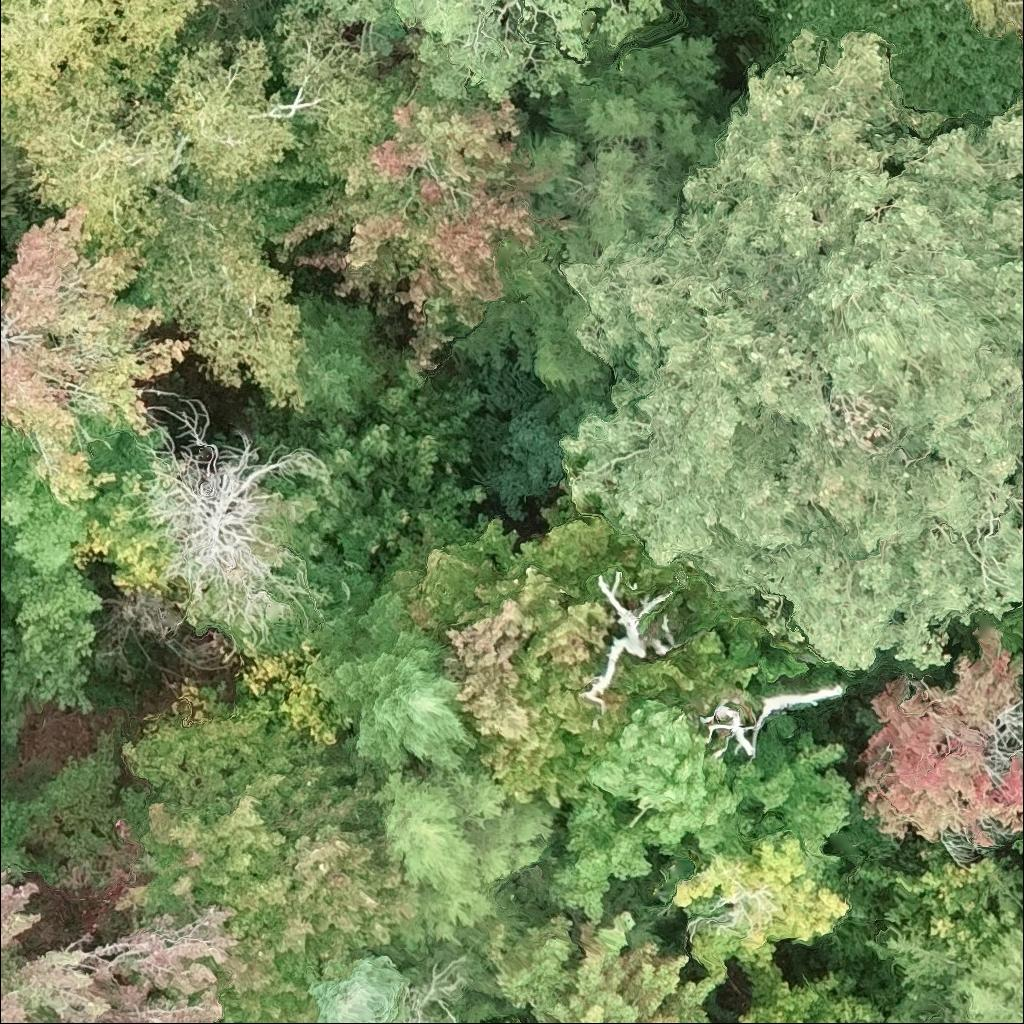crown: (555, 23, 1023, 670), (0, 14, 413, 411), (452, 34, 724, 393), (116, 711, 422, 1023), (438, 562, 761, 816), (267, 85, 548, 365), (553, 698, 861, 922), (0, 200, 190, 505), (472, 511, 815, 679), (0, 413, 168, 715), (137, 387, 330, 629), (277, 0, 665, 104), (853, 625, 1023, 853), (0, 865, 240, 1023), (372, 767, 562, 955), (316, 588, 477, 785), (478, 902, 728, 1023), (666, 829, 855, 975), (0, 0, 221, 120), (863, 914, 1023, 1023), (290, 287, 396, 423), (580, 572, 675, 714), (305, 935, 436, 1023), (400, 536, 510, 640), (737, 962, 886, 1023), (0, 788, 32, 878), (972, 0, 1023, 38), (1013, 834, 1023, 869)
